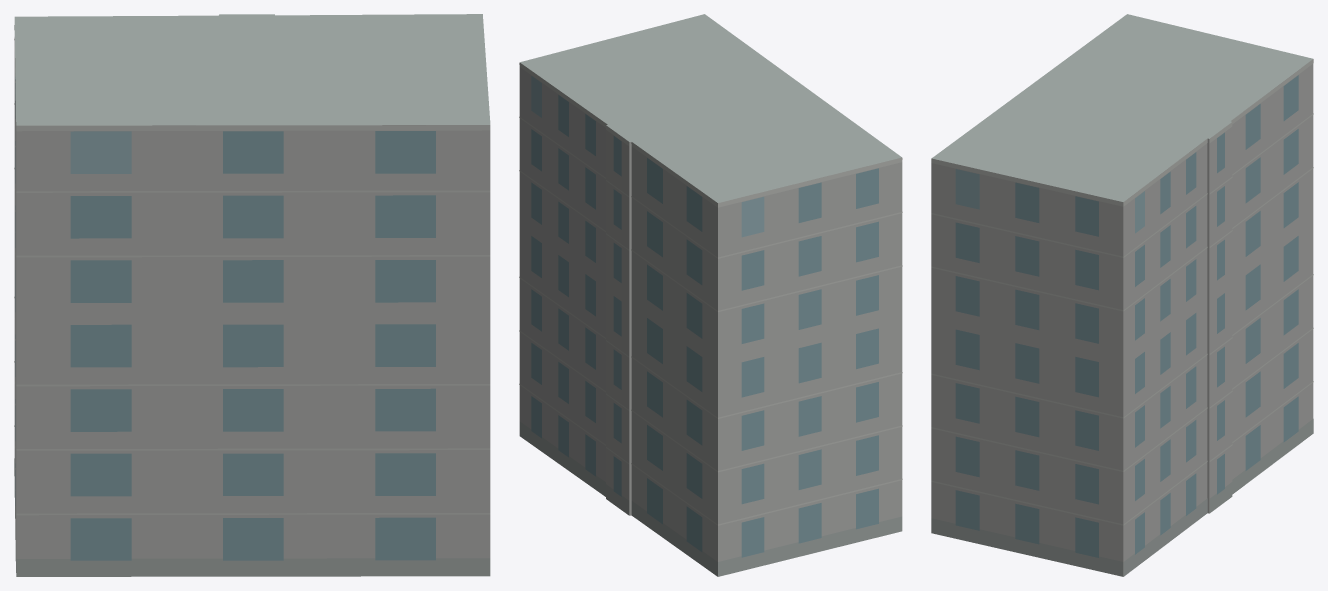
Rendered from survey-upis-32928913.glb.
3 renders of one model, left to right at view 1: azimuth 30°, elevation 25°; view 2: azimuth 150°, elevation 25°; view 3: azimuth 270°, elevation 25°, orthographic. The views are drawn at different scales.
Visible parts, largest first — view 1: survey-upis-32928913.tmp; view 2: survey-upis-32928913.tmp; view 3: survey-upis-32928913.tmp.
Part boxes in pixels (bbox=[...]): survey-upis-32928913.tmp: bbox=[14, 14, 490, 576]; survey-upis-32928913.tmp: bbox=[519, 14, 902, 576]; survey-upis-32928913.tmp: bbox=[931, 14, 1313, 576].
Size of the model in its own units: 21.56 by 20 by 18.5.
